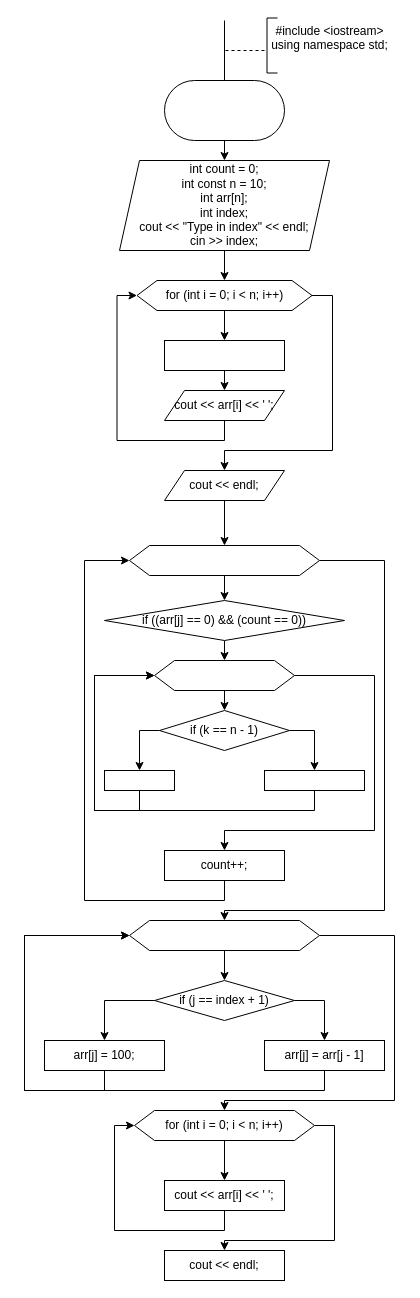
This 420x1298 diagram has some shape labels left out. Each missing label, with the box of its shape:
arr[i] = rand() % 10;: (164, 340, 284, 370)
arr[k] = 0;: (104, 770, 174, 790)
arr[k] = arr[k + 1];: (264, 770, 364, 790)
for (int j = n - 1; j > index; j--): (128, 920, 320, 950)
for (int j = n-1; j >=0; j--): (128, 544, 320, 576)
for (int k = j; k < n; k++): (154, 660, 294, 690)
int main(): (164, 80, 284, 140)
